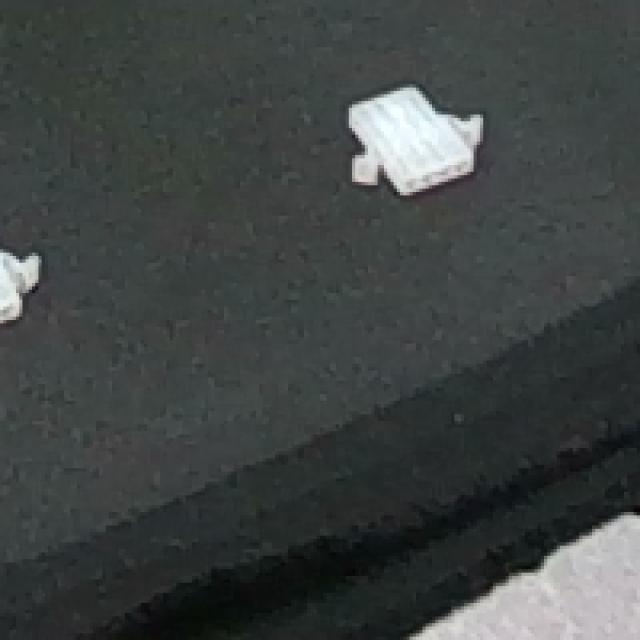pick: (339, 67, 502, 200), (0, 192, 58, 364)
